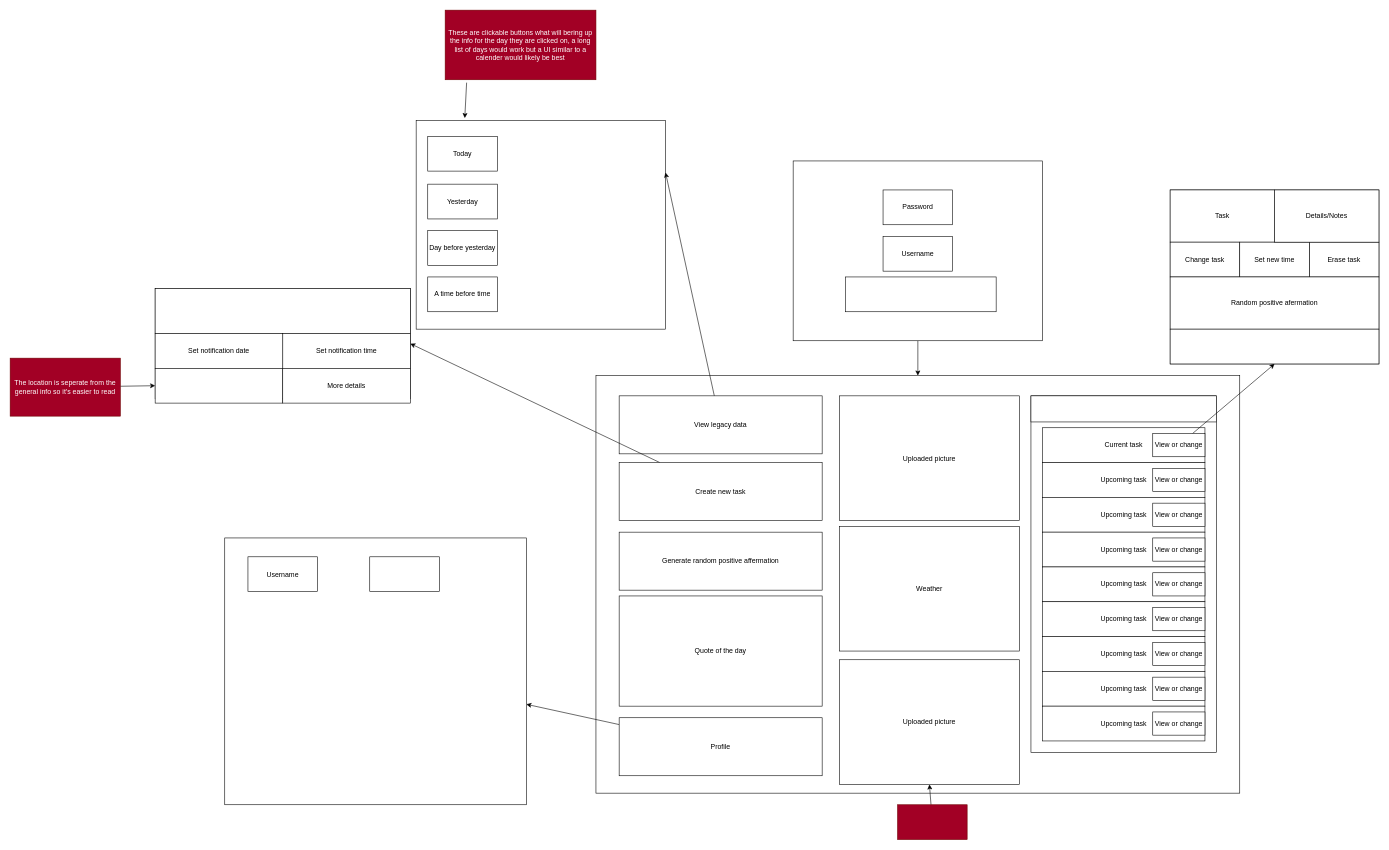
Some shapes in this 1389 by 850 pixel diagram are drawn without their labels. Each missing label, with the centre of its shape:
All tasks for today :): (x=1123, y=408)
Edit Details/Notes: (x=1274, y=346)
Log in button: (x=920, y=294)
Set location: (x=219, y=385)
Uploaded pictures are posted by the user: (x=932, y=822)
What is the task?: (x=282, y=311)
